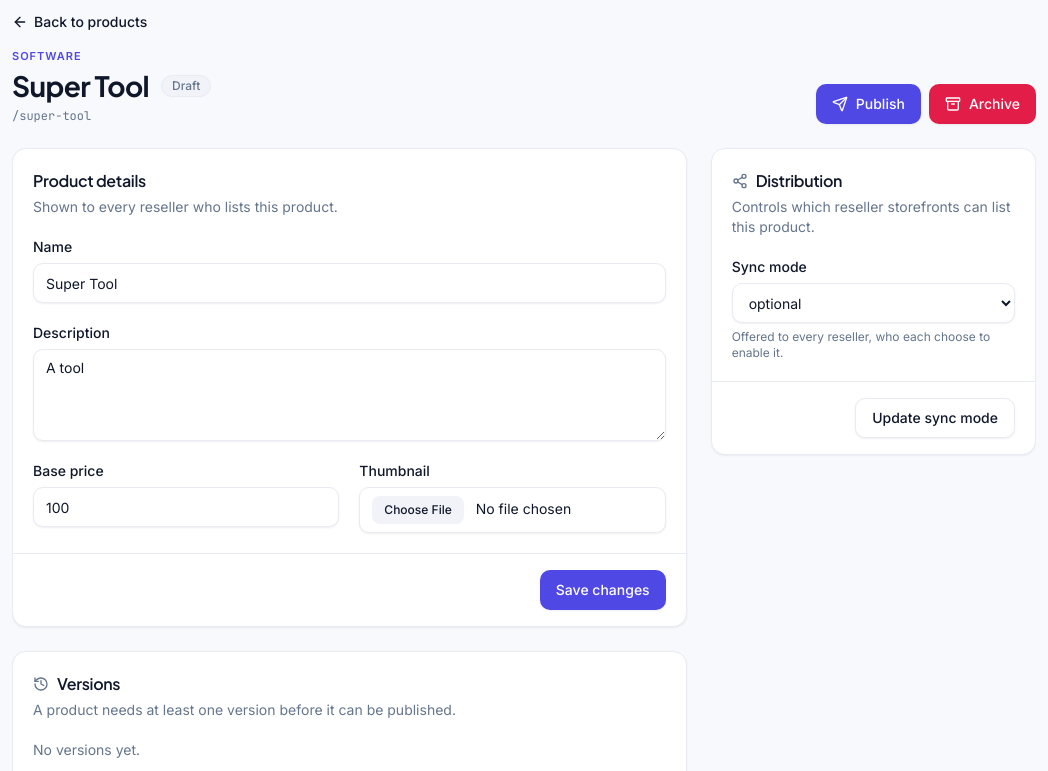
Scenario: ProductDetailPage › shows an inline message when publish fails
The width and height of the screenshot is (1048, 771).
Check: the heading "Super Tool" is shown, box [12,70,149,102]
Click the button "Publish" at point(868, 104), box [816,84,921,124]
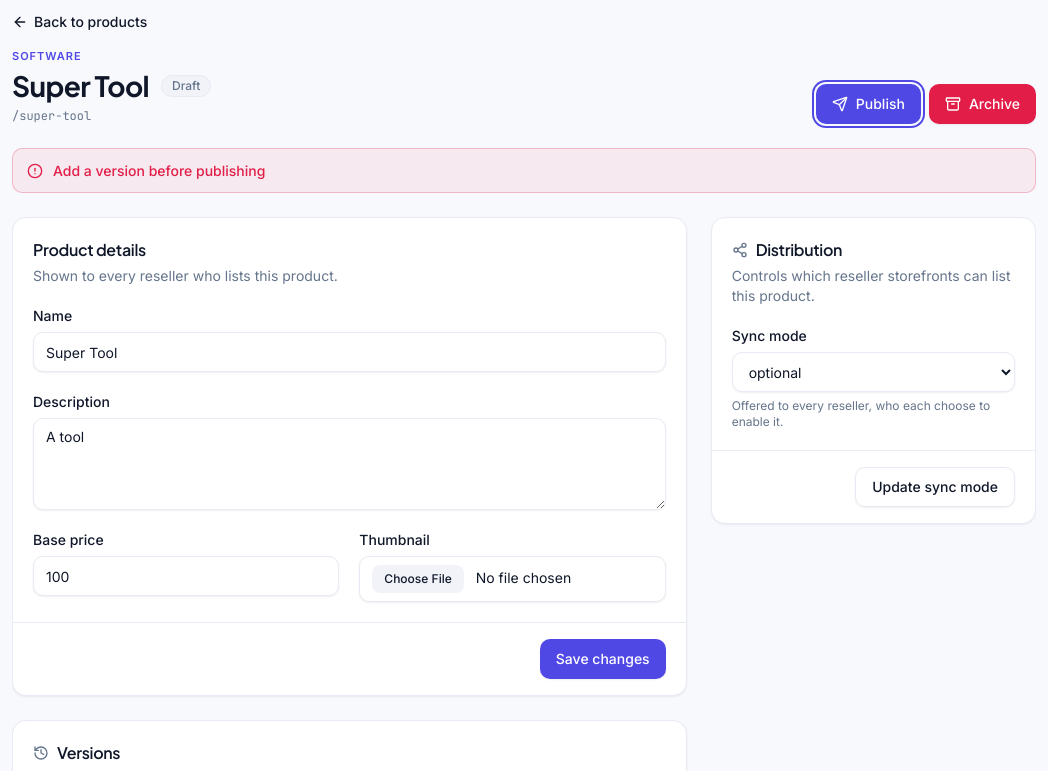
Check: the text "Add a version before publishing" is shown, box [53,161,265,180]
